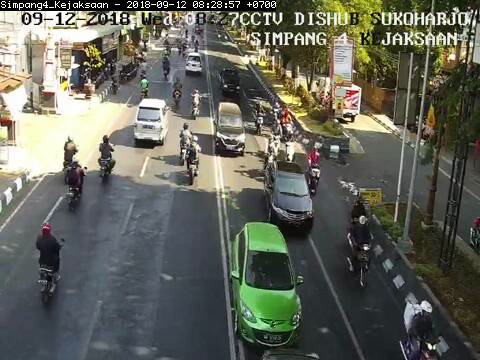motor: (401, 301, 442, 360), (345, 216, 376, 289), (306, 145, 322, 196)
